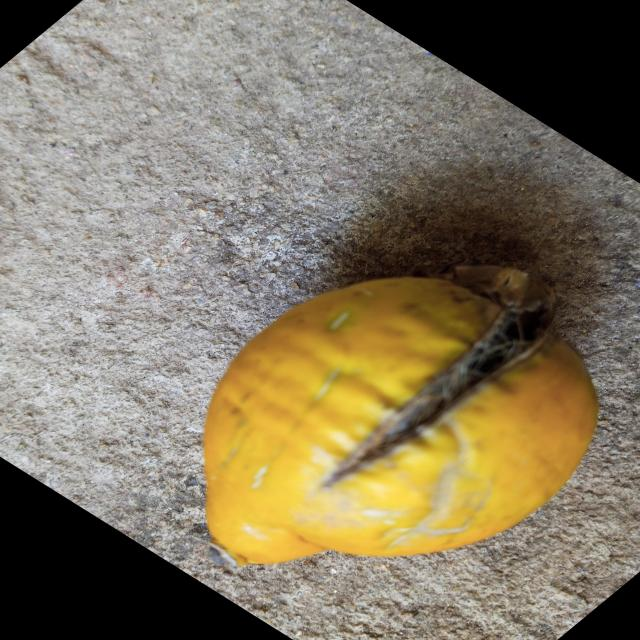damaged: (204, 278, 597, 566)
